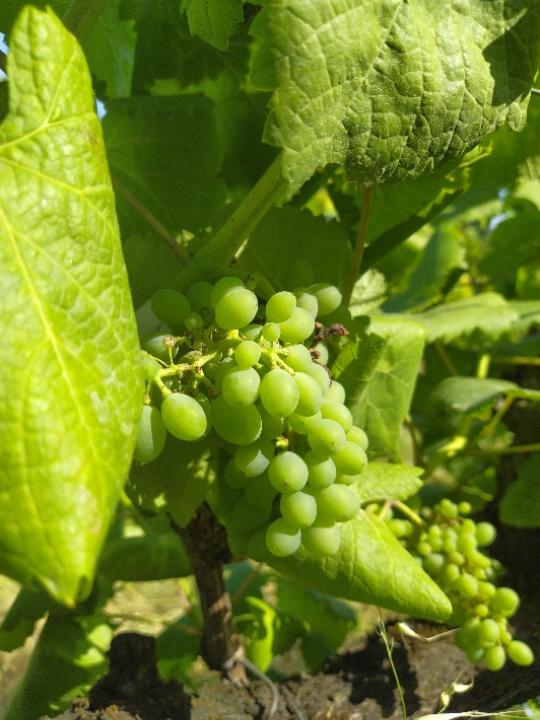grape: (135, 275, 367, 560), (388, 503, 539, 673)
